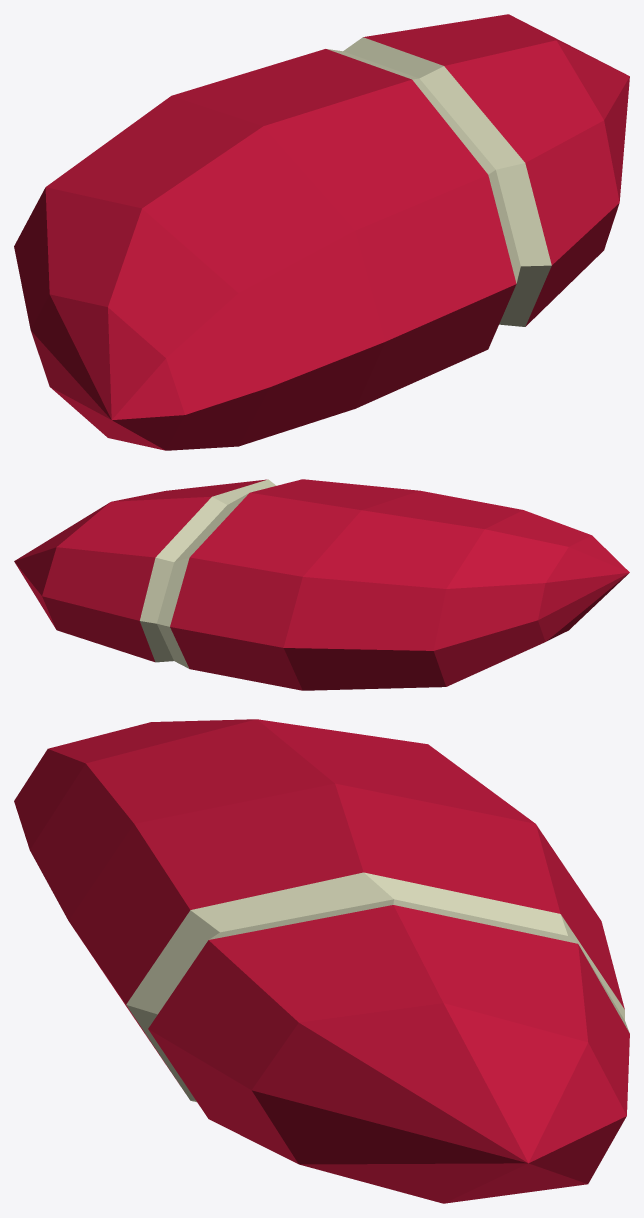
File: Liver.fbx
The picture shows the model from 3 angles, top to bottom: view 1: azimuth 30°, elevation 25°; view 2: azimuth 150°, elevation 25°; view 3: azimuth 270°, elevation 25°; orthographic projection. The views are drawn at different scales.
Parts seen in each view (by area): view 1: Liver; view 2: Liver; view 3: Liver.
Part boxes in pixels (bbox=[...]): Liver: bbox=[14, 14, 629, 450]; Liver: bbox=[14, 479, 629, 690]; Liver: bbox=[14, 719, 629, 1203].
Size of the model in its own units: 616 by 200 by 407.
